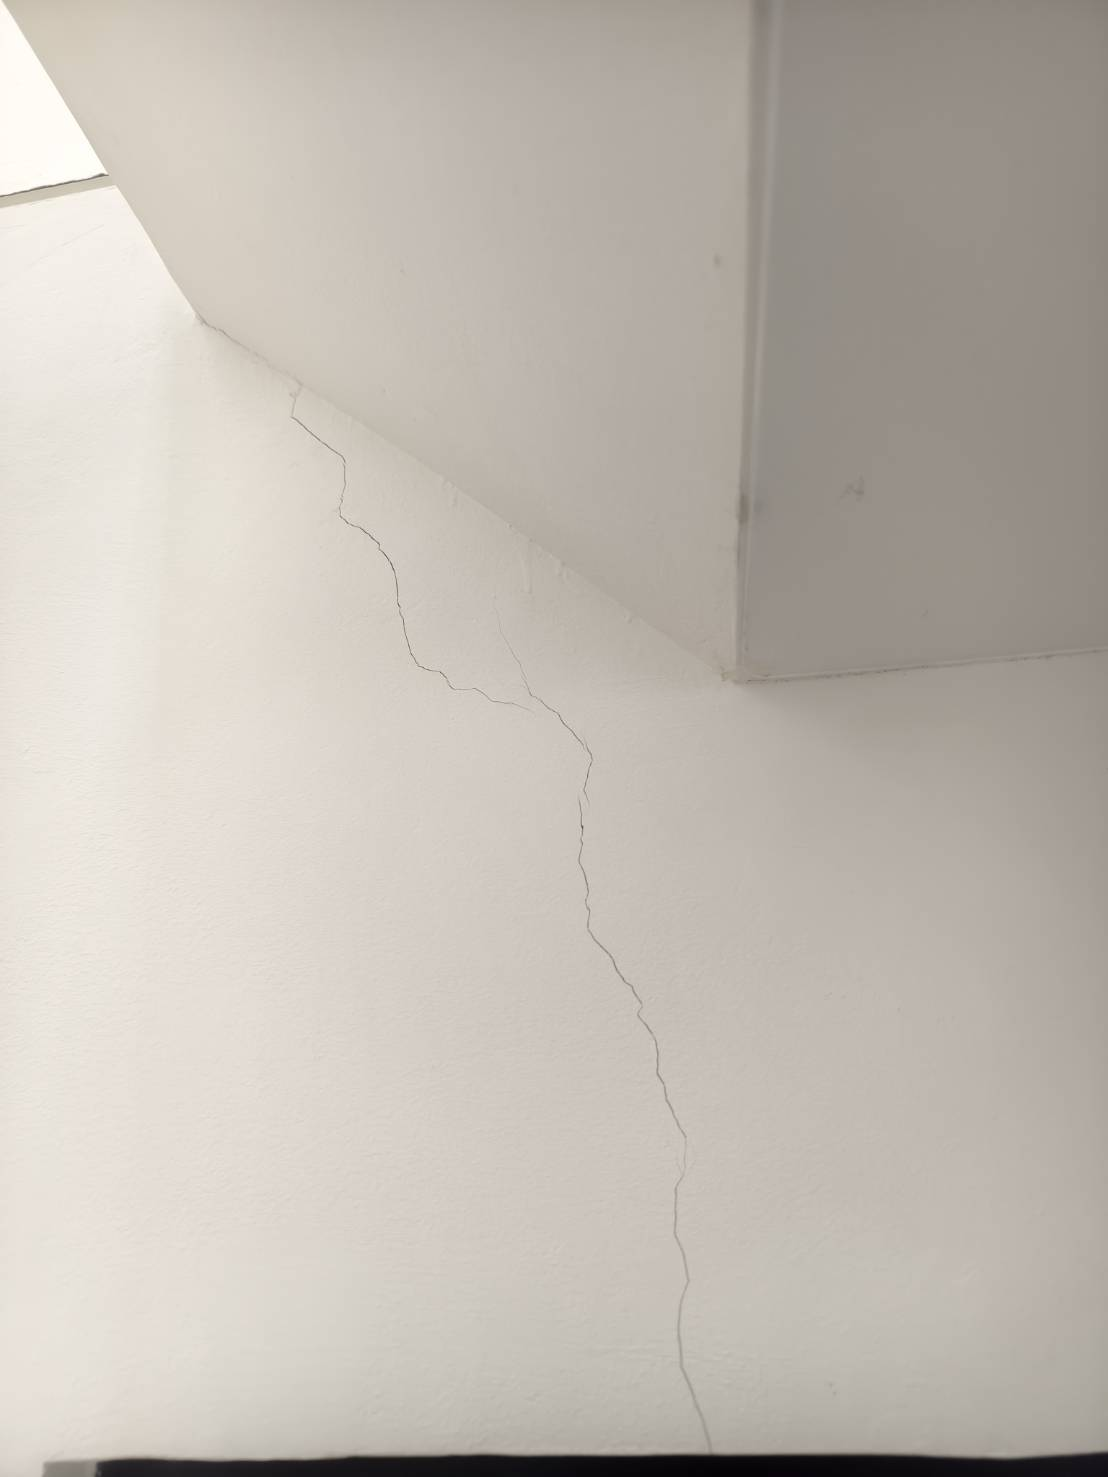Low: (229, 361, 779, 1477)
